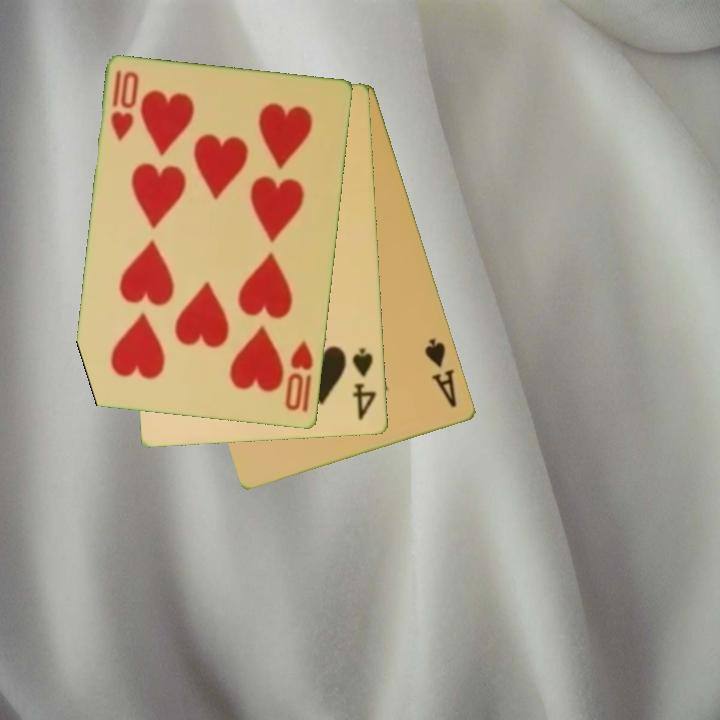10h: (282, 337, 317, 416), (107, 66, 142, 144)
4s: (349, 345, 380, 424)
As: (421, 335, 461, 411)
